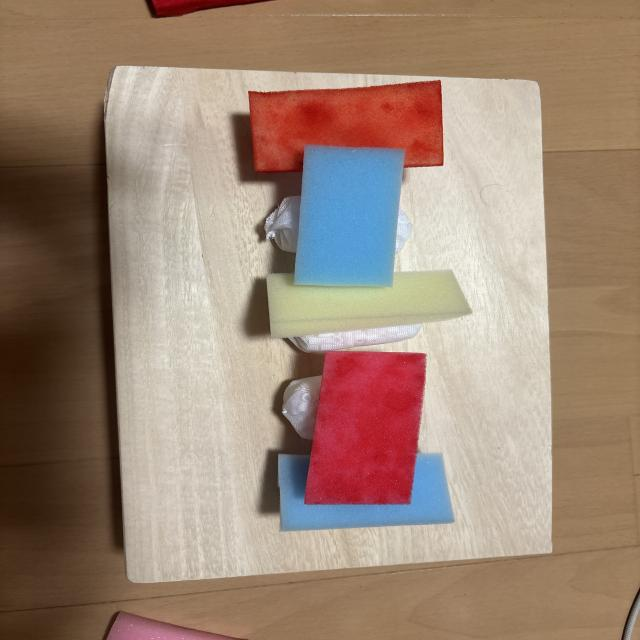NG: (283, 352, 425, 505), (265, 146, 412, 286), (267, 270, 472, 352)
ika: (279, 453, 454, 531)
salmon: (249, 80, 443, 172)
